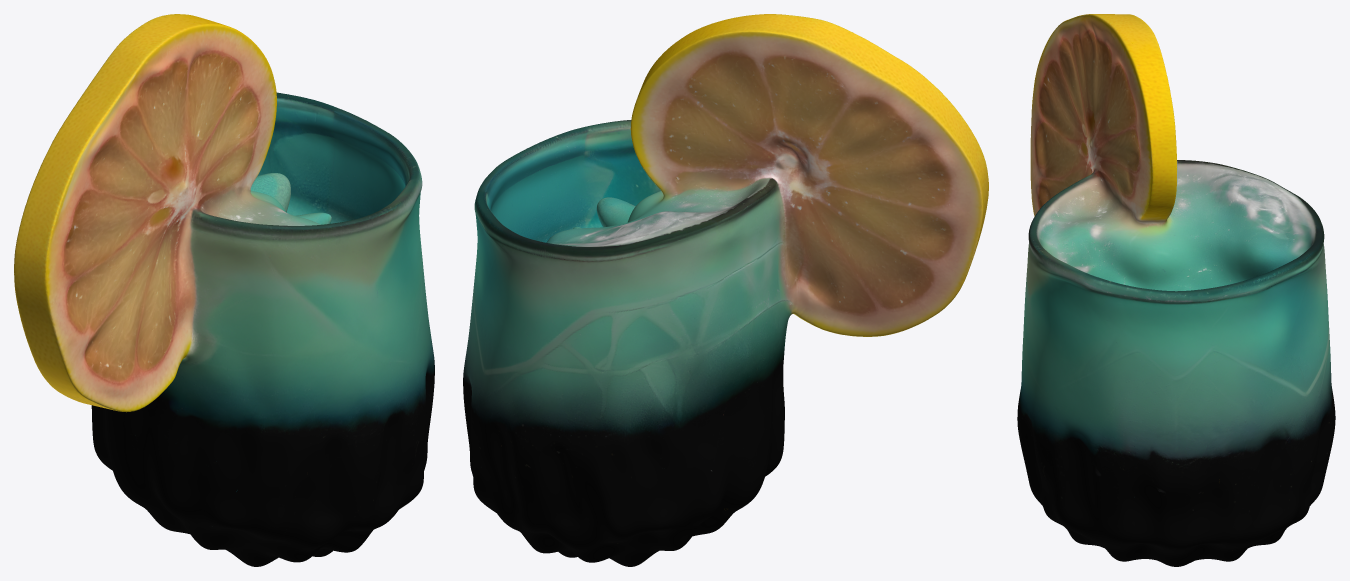
The model's file is old-fashioned.glb.
3 renders of one model, left to right at view 1: azimuth 30°, elevation 25°; view 2: azimuth 150°, elevation 25°; view 3: azimuth 270°, elevation 25°, orthographic. The views are drawn at different scales.
Parts seen in each view (by area): view 1: Mesh_0; view 2: Mesh_0; view 3: Mesh_0.
Part boxes in pixels (x1,y1,x2,y2): Mesh_0: (14, 14, 434, 566); Mesh_0: (463, 14, 988, 566); Mesh_0: (1017, 14, 1335, 566).
Size of the model in its own units: 0.1084 by 0.1265 by 0.0769.
Materials: 1 (1 with a texture image).
